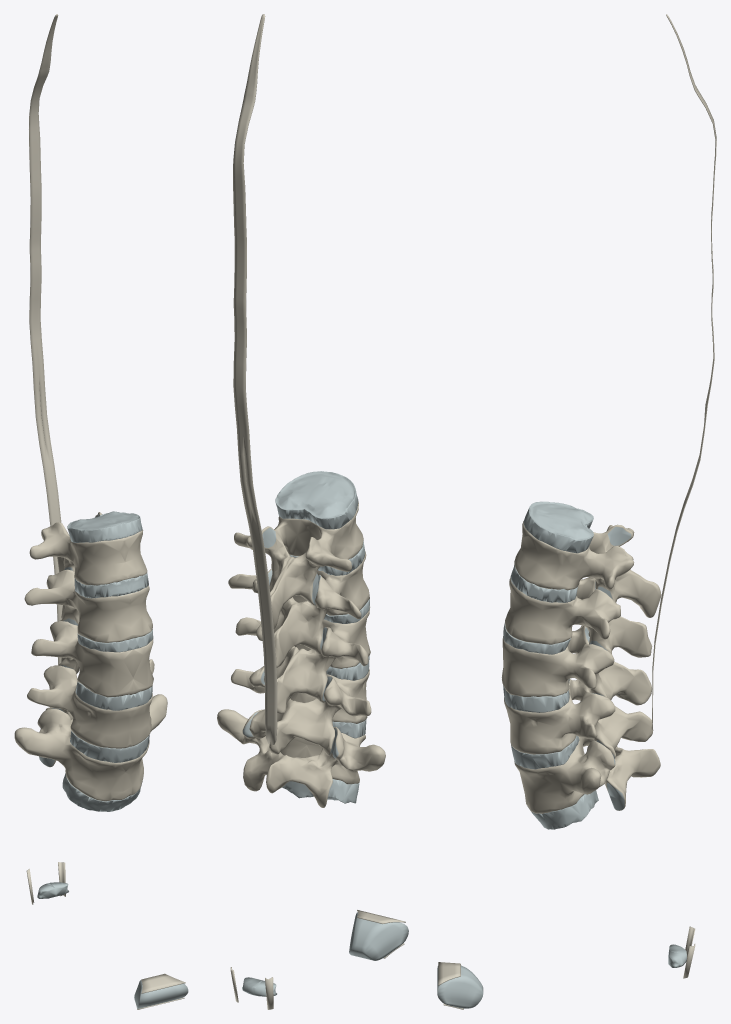
Rendered from detail-skeletal-abdomen.glb.
3 views of the same model, side by side, from view 1: azimuth 30°, elevation 25°; view 2: azimuth 150°, elevation 25°; view 3: azimuth 270°, elevation 25° (orthographic). The views are drawn at different scales.
Parts seen in each view (by area): view 1: za-4f6e3b057d4b5e06, za-cfb0a2a0fed8f03f, za-383d4717457a611b, za-50d6b6d1e9bdaec2, za-9b3e08dcf3827b70, za-a268f2cafbd46c75, za-43feb2ec02857bda, za-72d1f10e23a9de1d, za-46af93e9af465847, za-a3bbb926e3fd52f2, za-84f5e016a989f3ea, za-6d585f12856d6f0e (+3 smaller); view 2: za-4f6e3b057d4b5e06, za-cfb0a2a0fed8f03f, za-a268f2cafbd46c75, za-9b3e08dcf3827b70, za-383d4717457a611b, za-50d6b6d1e9bdaec2, za-43feb2ec02857bda, za-6d585f12856d6f0e, za-84f5e016a989f3ea, za-46af93e9af465847; view 3: za-a268f2cafbd46c75, za-50d6b6d1e9bdaec2, za-383d4717457a611b, za-9b3e08dcf3827b70, za-cfb0a2a0fed8f03f, za-43feb2ec02857bda, za-4f6e3b057d4b5e06, za-6d585f12856d6f0e, za-84f5e016a989f3ea, za-46af93e9af465847, za-72d1f10e23a9de1d, za-a3bbb926e3fd52f2 (+1 smaller).
Boxes of the visible parts, box(x1,y1,x2,y2) form: za-4f6e3b057d4b5e06: box(29, 14, 62, 665); za-cfb0a2a0fed8f03f: box(14, 694, 167, 801); za-383d4717457a611b: box(24, 569, 152, 642); za-50d6b6d1e9bdaec2: box(31, 621, 153, 697); za-9b3e08dcf3827b70: box(27, 659, 154, 748); za-a268f2cafbd46c75: box(29, 512, 147, 585); za-43feb2ec02857bda: box(67, 511, 142, 542); za-72d1f10e23a9de1d: box(70, 730, 149, 762); za-46af93e9af465847: box(75, 681, 152, 710); za-a3bbb926e3fd52f2: box(74, 573, 148, 598); za-84f5e016a989f3ea: box(62, 773, 142, 811); za-6d585f12856d6f0e: box(134, 980, 188, 1008); za-4f6e3b057d4b5e06: box(233, 14, 277, 744); za-cfb0a2a0fed8f03f: box(217, 709, 385, 807); za-a268f2cafbd46c75: box(234, 501, 363, 628); za-9b3e08dcf3827b70: box(231, 666, 371, 755); za-383d4717457a611b: box(228, 551, 369, 667); za-50d6b6d1e9bdaec2: box(235, 606, 370, 713); za-43feb2ec02857bda: box(275, 471, 358, 529); za-6d585f12856d6f0e: box(349, 912, 408, 960); za-84f5e016a989f3ea: box(282, 779, 359, 803); za-46af93e9af465847: box(326, 656, 369, 680); za-a268f2cafbd46c75: box(514, 521, 661, 617); za-50d6b6d1e9bdaec2: box(501, 625, 651, 705); za-383d4717457a611b: box(505, 576, 652, 657); za-9b3e08dcf3827b70: box(504, 679, 653, 758); za-cfb0a2a0fed8f03f: box(514, 737, 660, 813); za-43feb2ec02857bda: box(523, 501, 593, 553); za-4f6e3b057d4b5e06: box(651, 14, 716, 729); za-6d585f12856d6f0e: box(437, 965, 483, 1008); za-84f5e016a989f3ea: box(527, 790, 598, 829); za-46af93e9af465847: box(503, 679, 569, 712); za-72d1f10e23a9de1d: box(511, 735, 579, 769); za-a3bbb926e3fd52f2: box(510, 564, 577, 602).
Size of the model in its own units: 0.1058 by 0.6158 by 0.1578.
